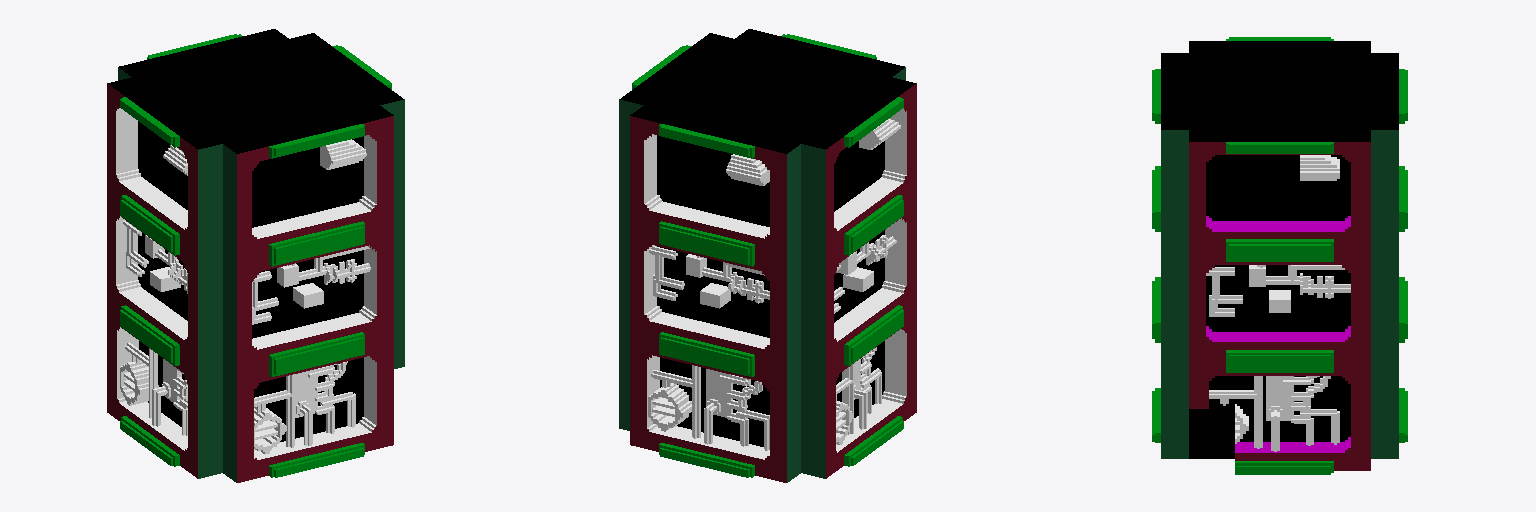
Rendered from WALTEK04_blocky_c4d_uv.obj.
3 views of the same model, side by side, from view 1: azimuth 30°, elevation 25°; view 2: azimuth 150°, elevation 25°; view 3: azimuth 270°, elevation 25° (orthographic).
Visible parts, largest first — view 1: WALTEK04.1; view 2: WALTEK04.1; view 3: WALTEK04.1.
Part boxes in pixels (left/top/right/bottom): WALTEK04.1: left=107, top=29, right=404, bottom=482; WALTEK04.1: left=619, top=29, right=916, bottom=482; WALTEK04.1: left=1152, top=37, right=1407, bottom=474.
Bounding box in the file's own units: 180 × 256 × 180.